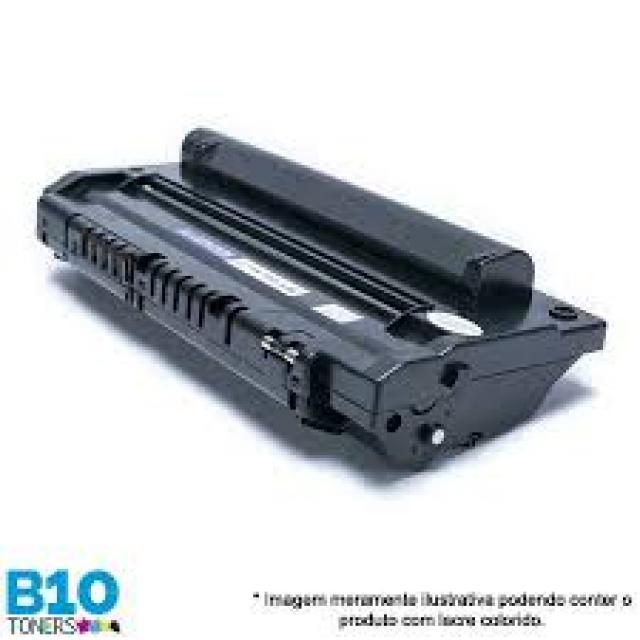printer: (35, 126, 613, 471)
